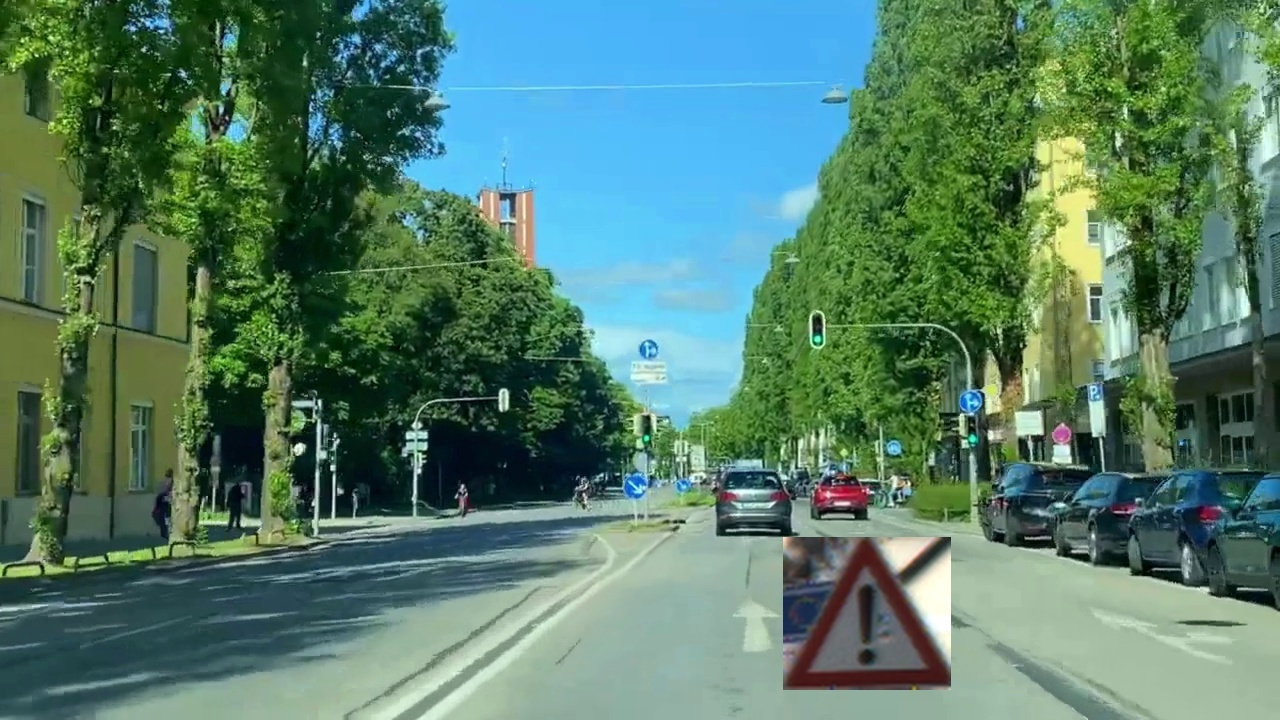Caution: (783, 537, 951, 690)
